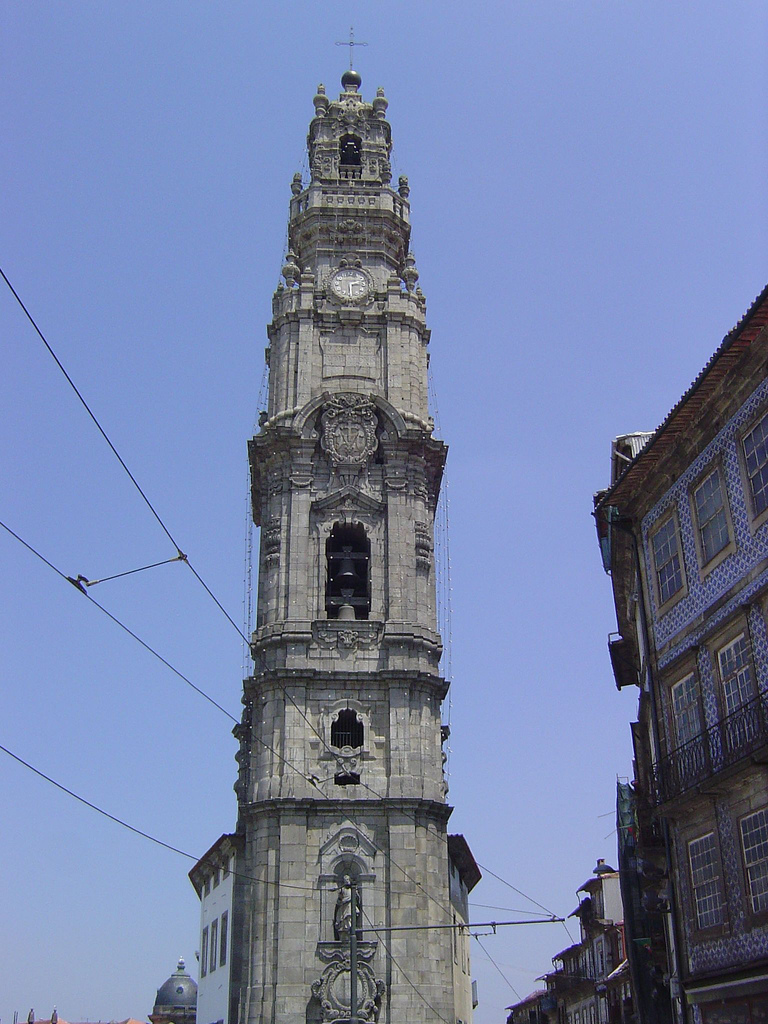clerigos: (233, 29, 459, 1023)
